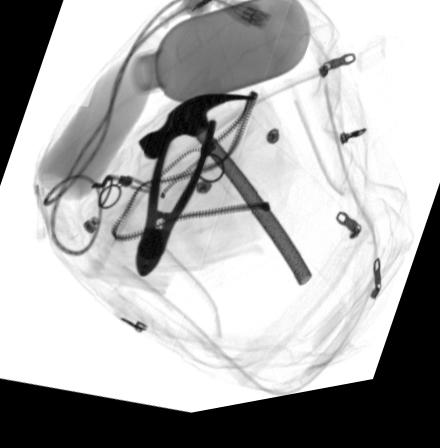Hammer: (140, 100, 313, 297)
Pliers: (135, 126, 217, 281)
